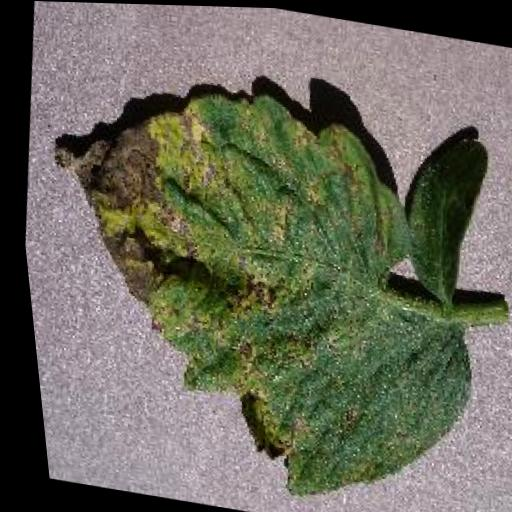Septoria: (5, 56, 512, 512)
